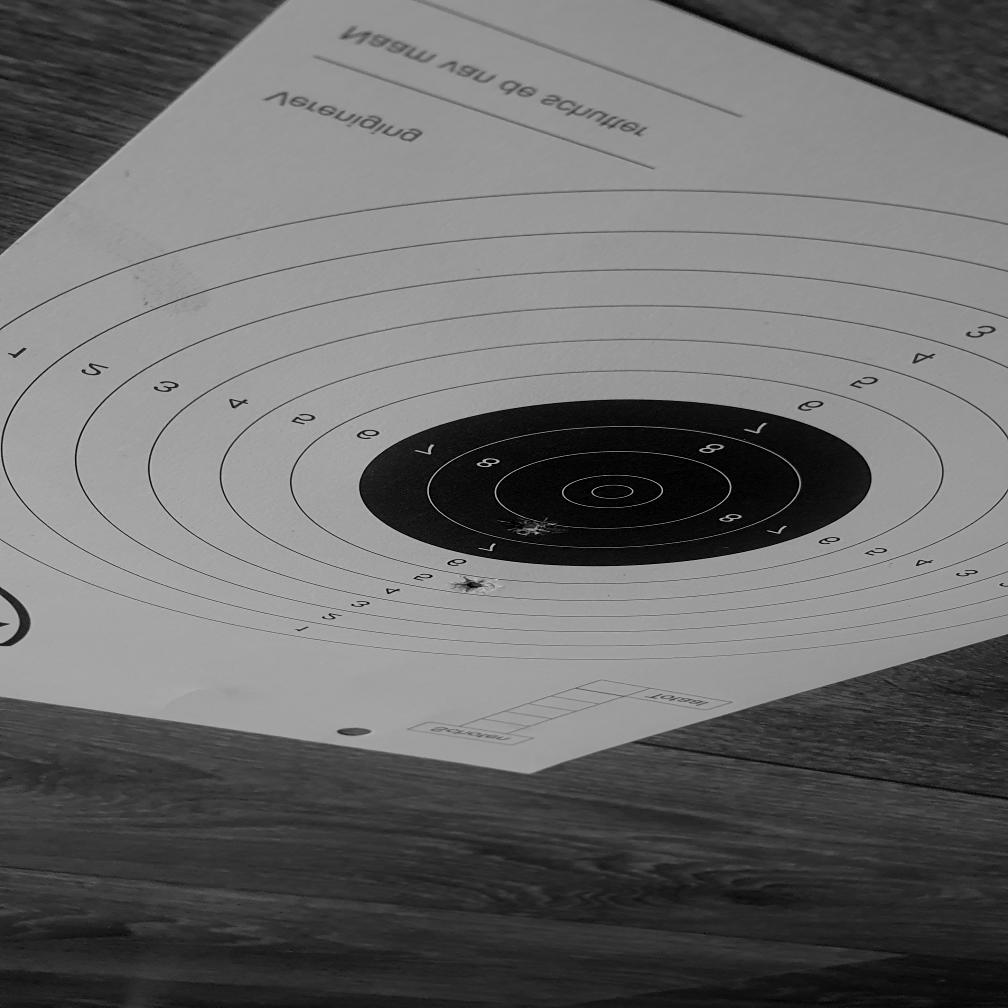5: (450, 575, 503, 597)
9: (498, 518, 555, 540)
Target: (0, 186, 1008, 660)
black_contour: (363, 400, 872, 568)
